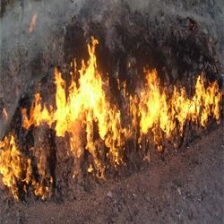fire: (1, 30, 224, 199)
